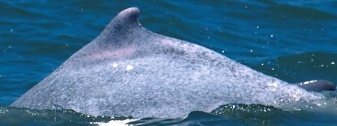fin: (9, 2, 331, 121)
